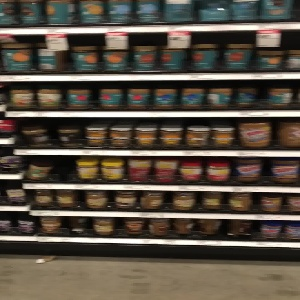void: (49, 155, 75, 184)
